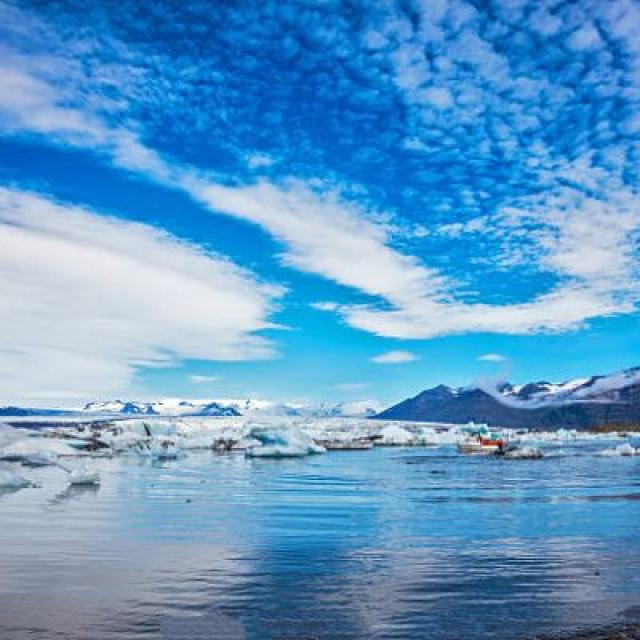St: (1, 165, 299, 416)
